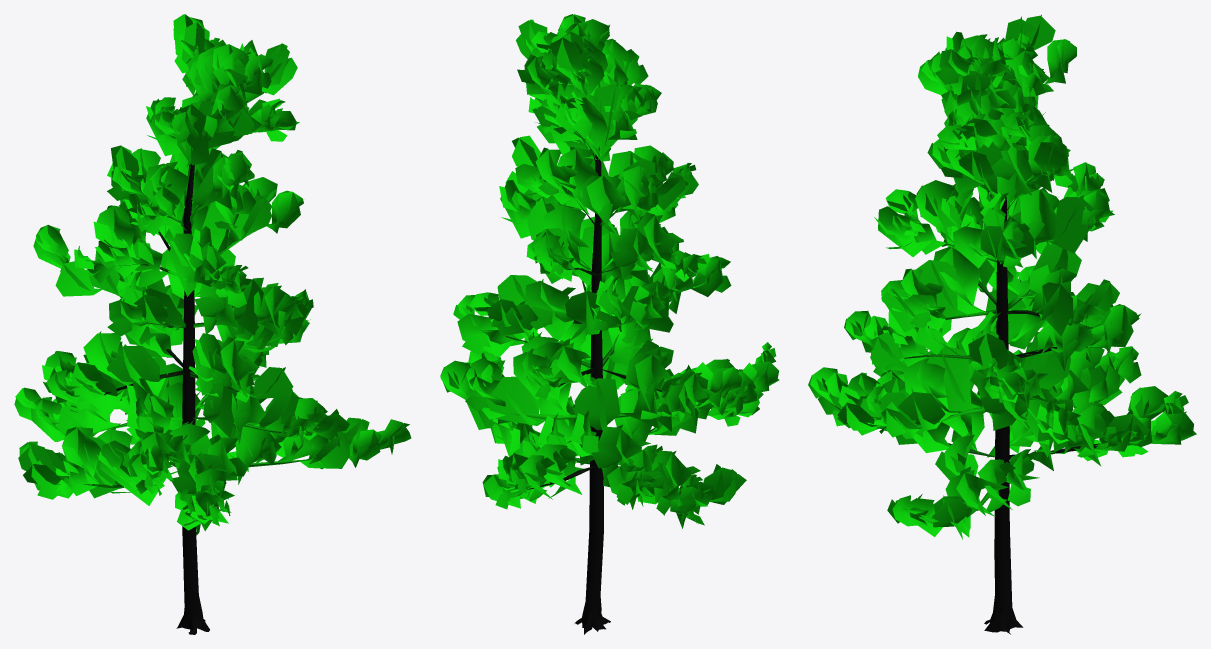
Rendered from TTFE_Pine Mid_NoVG.fbx.
3 views of the same model, side by side, from view 1: azimuth 30°, elevation 25°; view 2: azimuth 150°, elevation 25°; view 3: azimuth 270°, elevation 25° (orthographic). The views are drawn at different scales.
Visible parts, largest first — view 1: TTFE_Pine Mid; view 2: TTFE_Pine Mid; view 3: TTFE_Pine Mid.
Part boxes in pixels (box(x1,y1,x2,y2)): TTFE_Pine Mid: box(14, 14, 411, 634); TTFE_Pine Mid: box(440, 14, 779, 634); TTFE_Pine Mid: box(808, 14, 1196, 634).
Bounding box in the file's own units: 6.64 × 11.62 × 6.62.
